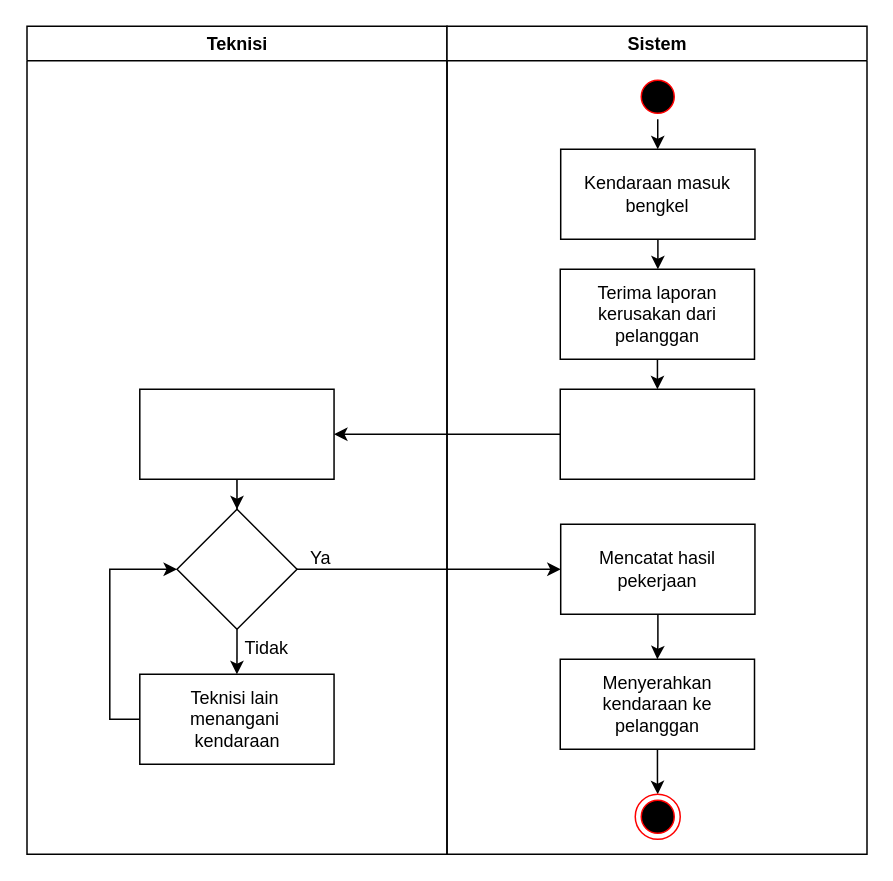
Some shapes in this 893 by 881 pixel diagram are drawn without their labels. The centre of each missing label's shape, as x and y in pixels:
Pekerjaan selesai?: point (236, 568)
Pilih teknisi berdasarkan pengalaman & perkiraan kemampuan: point (656, 433)
Teknisi ditugaskan menangani kendaraan: point (236, 433)
